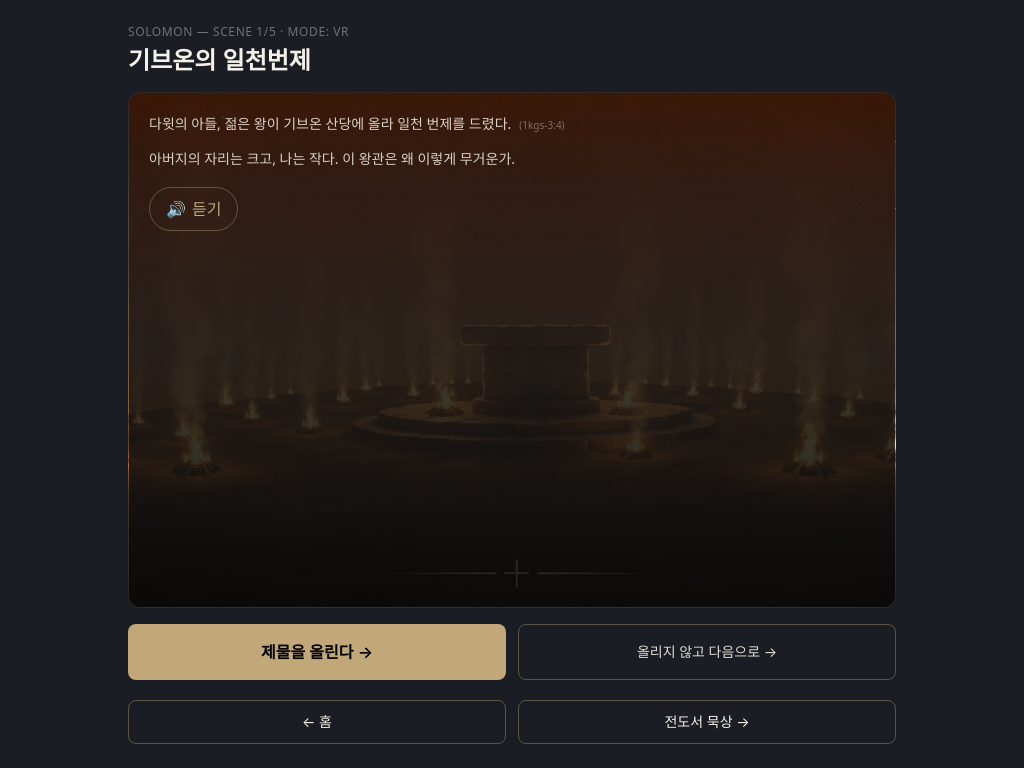
Scenario: Solomon Scene 1 — 기브온의 일천번제 (grab_and_place) › 제물을 올리면 offering_placed 를 실어 다음 씬으로 간다
What coordinates should you click on to do the following:
click the button "제물을 올린다 →"
I would click on:
 (317, 652)
Its box is left=128, top=624, right=506, bottom=680.
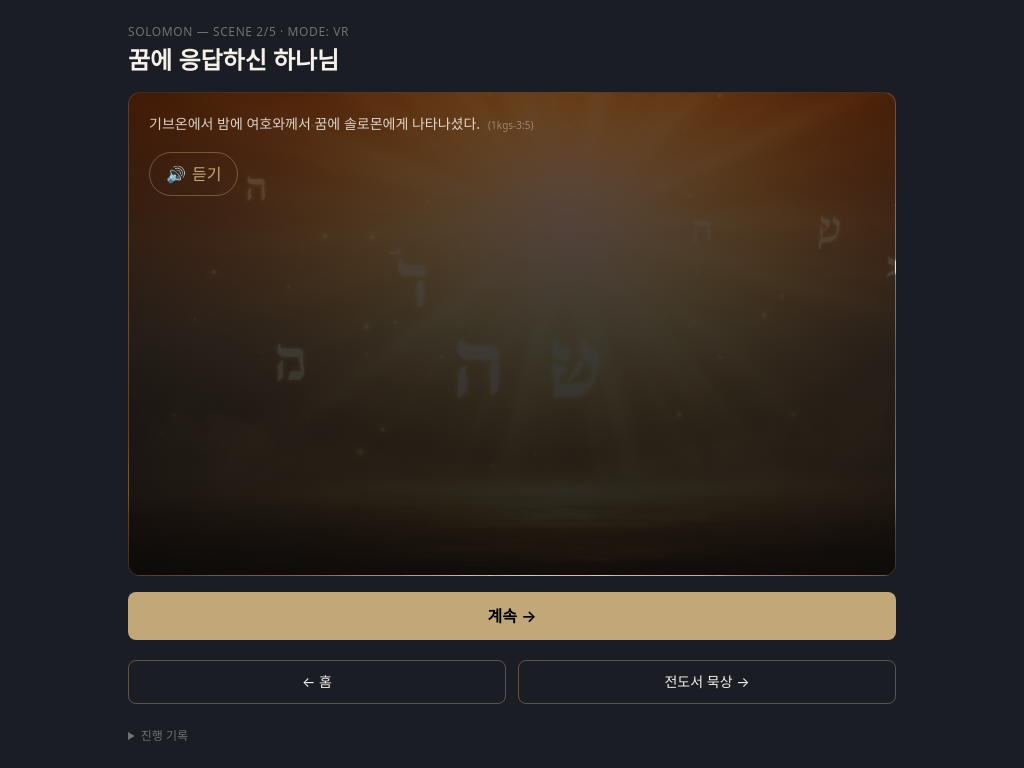
Expected: the heading "꿈에 응답하신 하나님" is shown, left=128, top=43, right=339, bottom=76
